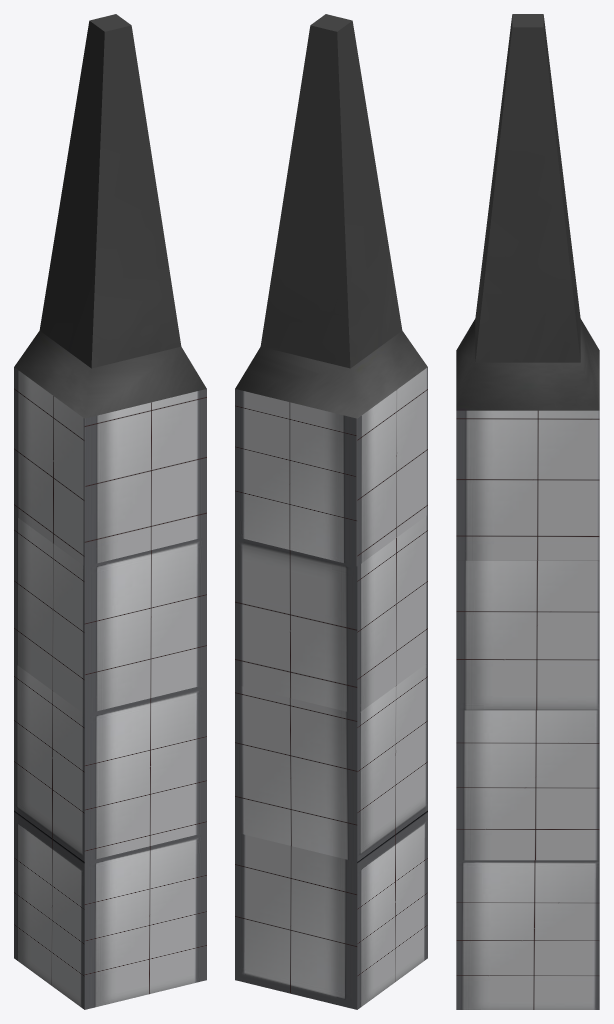
File: SKYSCRAPER_1.fbx
3 renders of one model, left to right at view 1: azimuth 30°, elevation 25°; view 2: azimuth 150°, elevation 25°; view 3: azimuth 270°, elevation 25°, orthographic.
Visible parts, largest first — view 1: pCube1; view 2: pCube1; view 3: pCube1.
Part boxes in pixels (left/top/right/bottom): pCube1: left=14, top=14, right=206, bottom=1009; pCube1: left=235, top=14, right=427, bottom=1009; pCube1: left=456, top=14, right=599, bottom=1009.
Size of the model in its own units: 1.73 by 12.77 by 1.73.
Materials: 1 (1 with a texture image).
